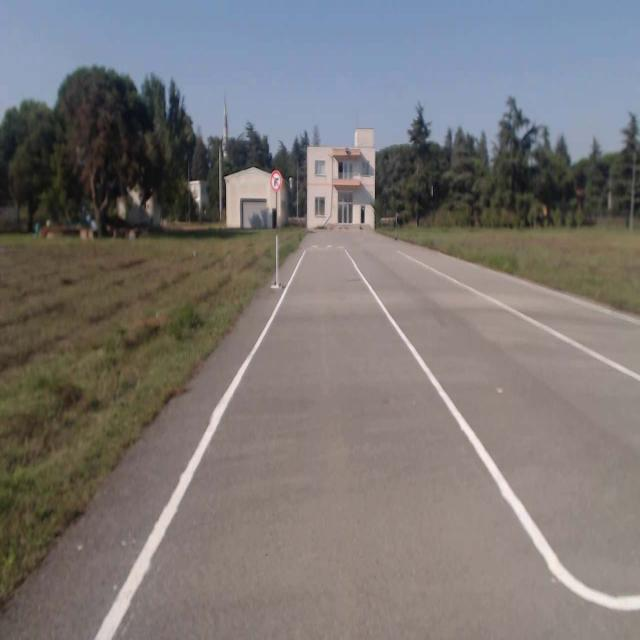sagadonulmez: (270, 170, 282, 191)
